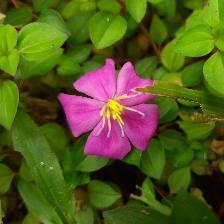malabar melastome: (59, 57, 165, 161)
